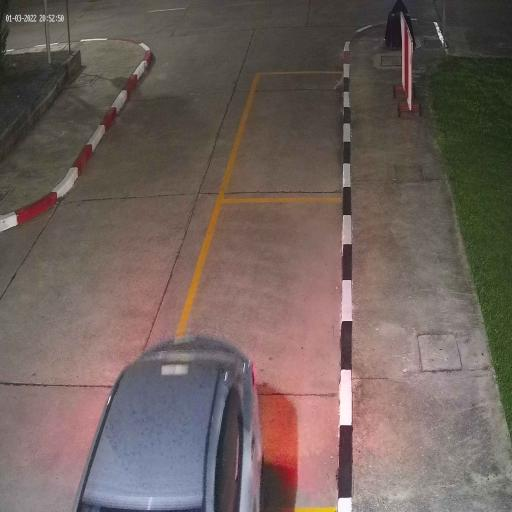car: (71, 332, 266, 512)
